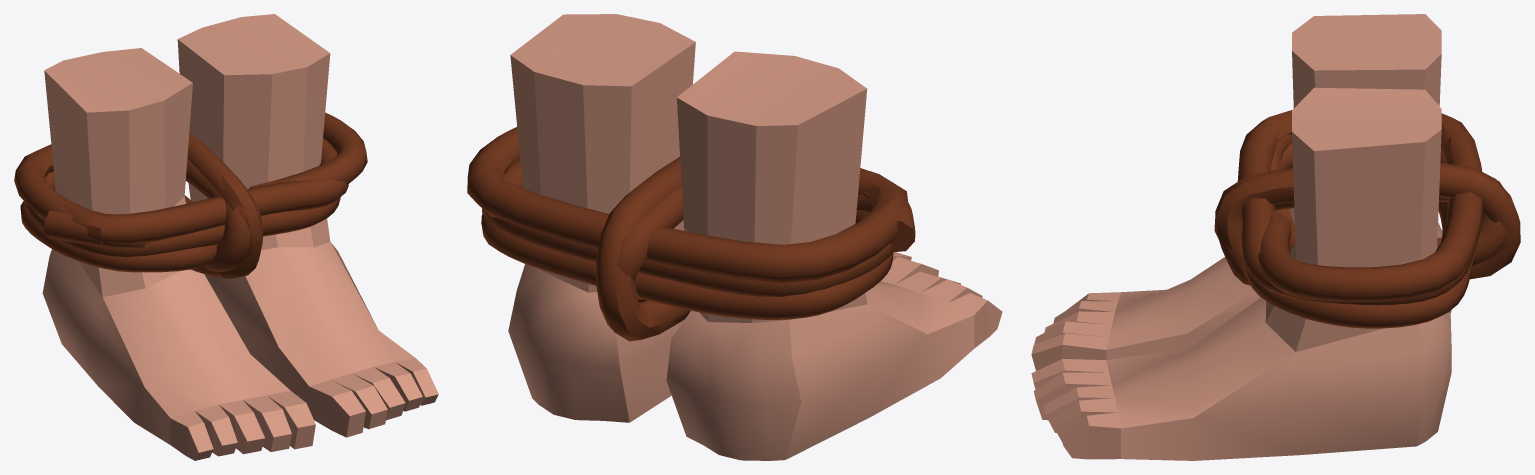
File: feet rescaled.FBX
3 views of the same model, side by side, from view 1: azimuth 30°, elevation 25°; view 2: azimuth 150°, elevation 25°; view 3: azimuth 270°, elevation 25° (orthographic). The views are drawn at different scales.
Visible parts, largest first — view 1: Box002, Loft001; view 2: Box002, Loft001; view 3: Box002, Loft001.
Part boxes in pixels (bbox=[...]): Box002: bbox=[42, 14, 438, 460]; Loft001: bbox=[14, 112, 367, 278]; Box002: bbox=[508, 14, 1002, 460]; Loft001: bbox=[467, 127, 915, 341]; Box002: bbox=[1031, 14, 1451, 460]; Loft001: bbox=[1214, 110, 1520, 328].
Bounding box in the file's own units: 0.4657 × 0.38 × 0.5359.
